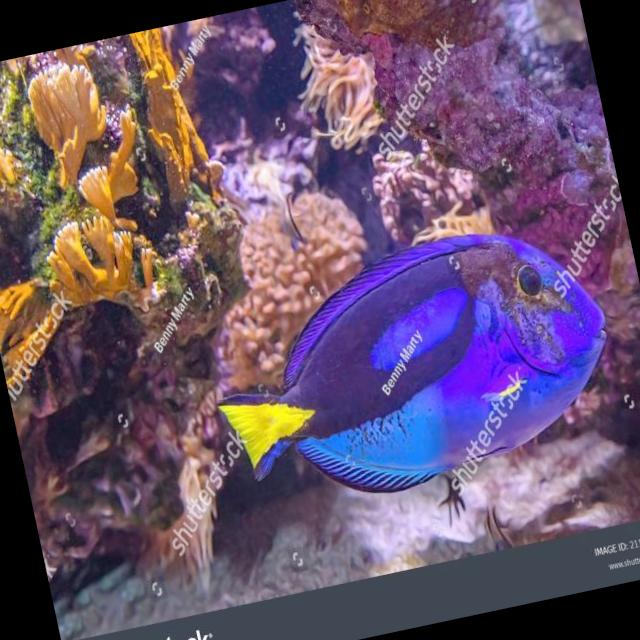TangFish: (195, 205, 633, 522)
